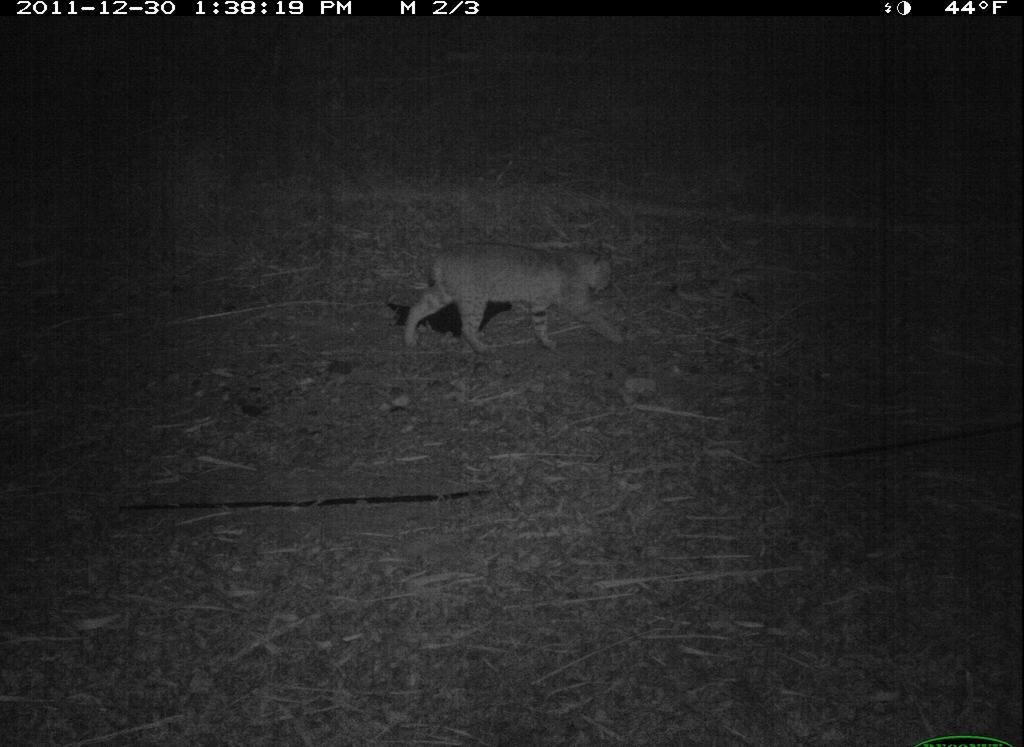bobcat: (399, 217, 639, 369)
